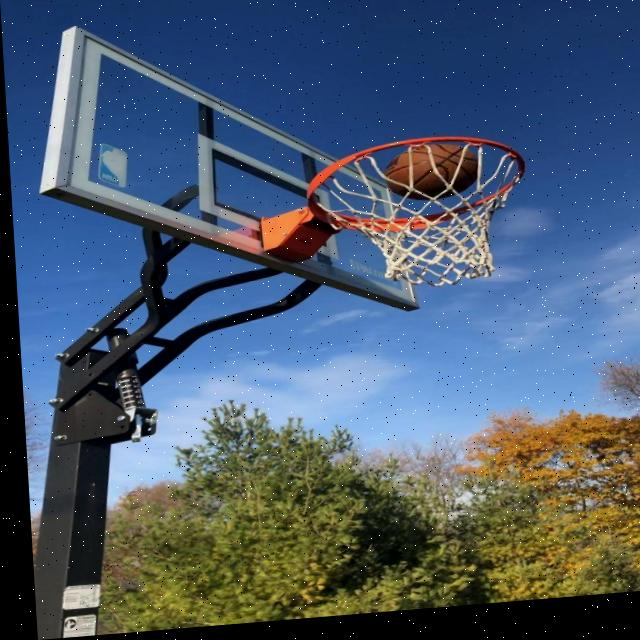hoop: (229, 132, 597, 315)
